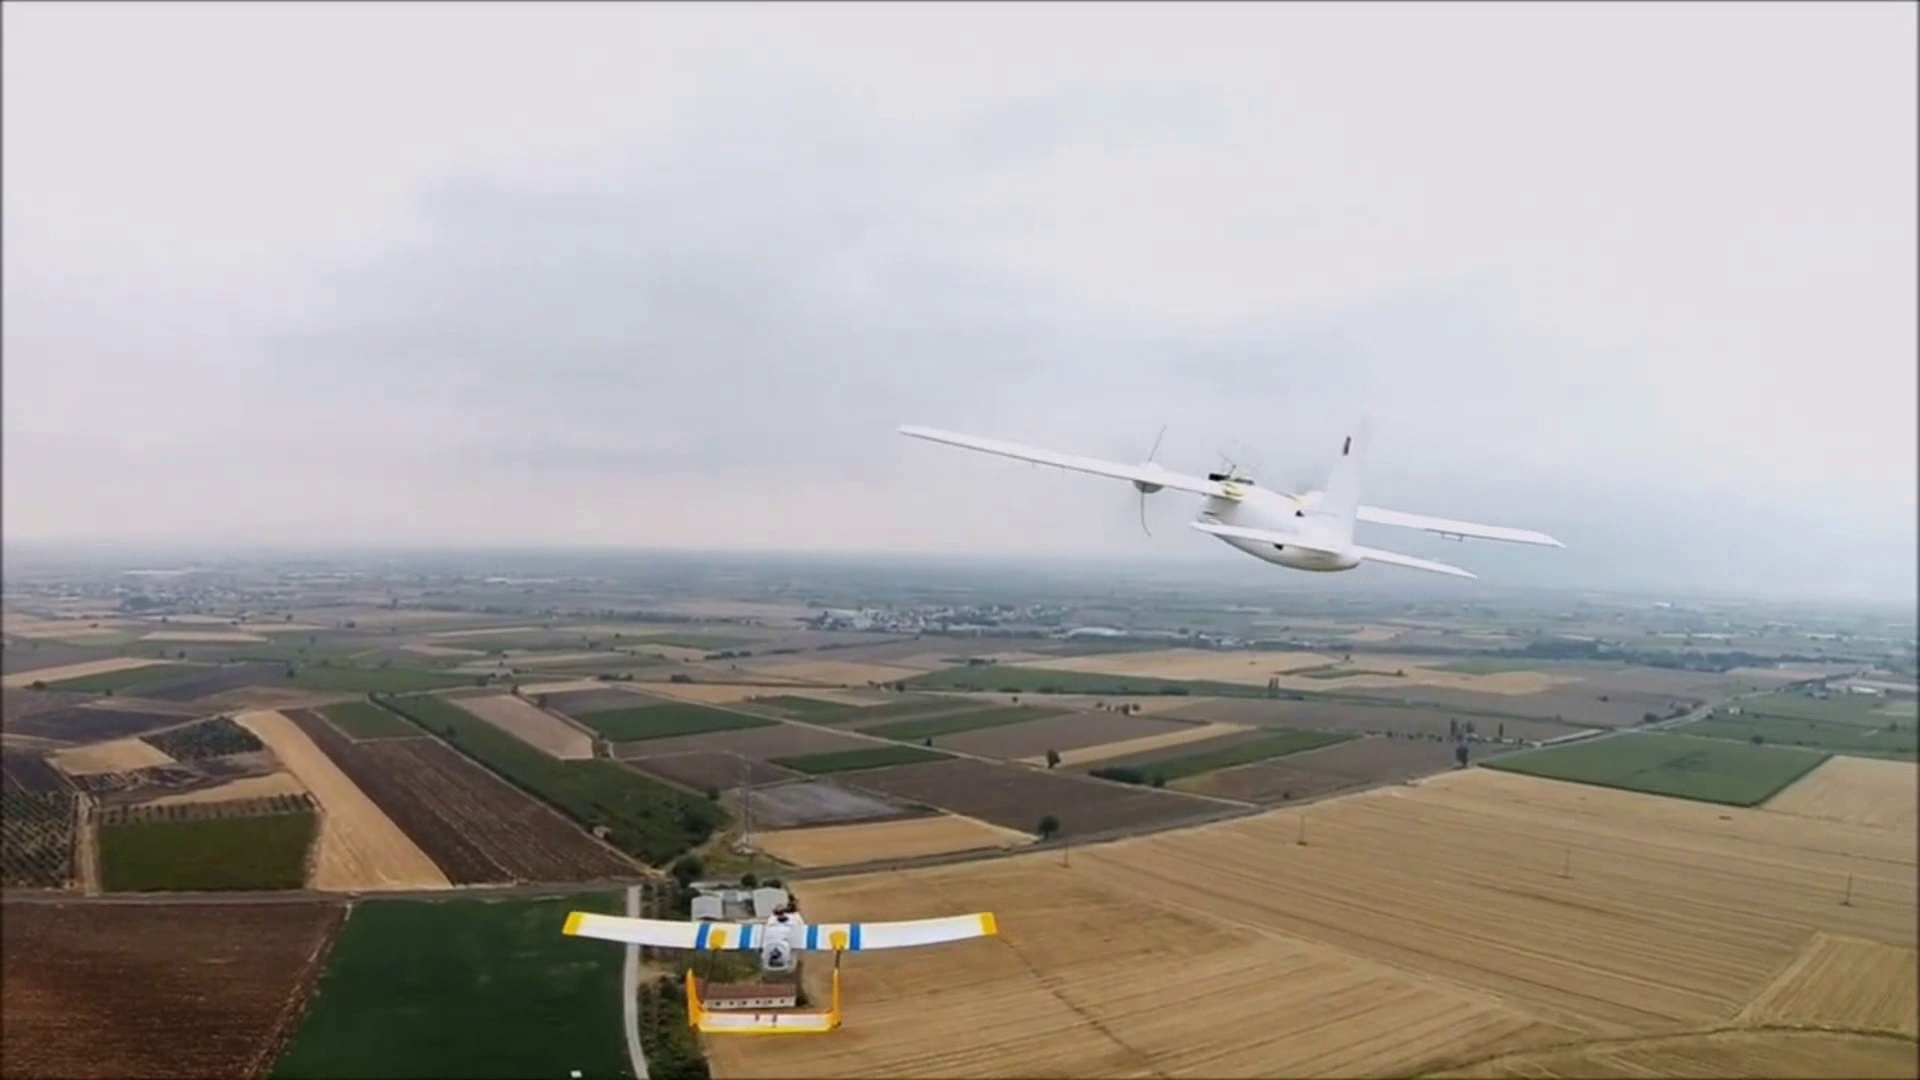airplane: (898, 415, 1567, 579)
